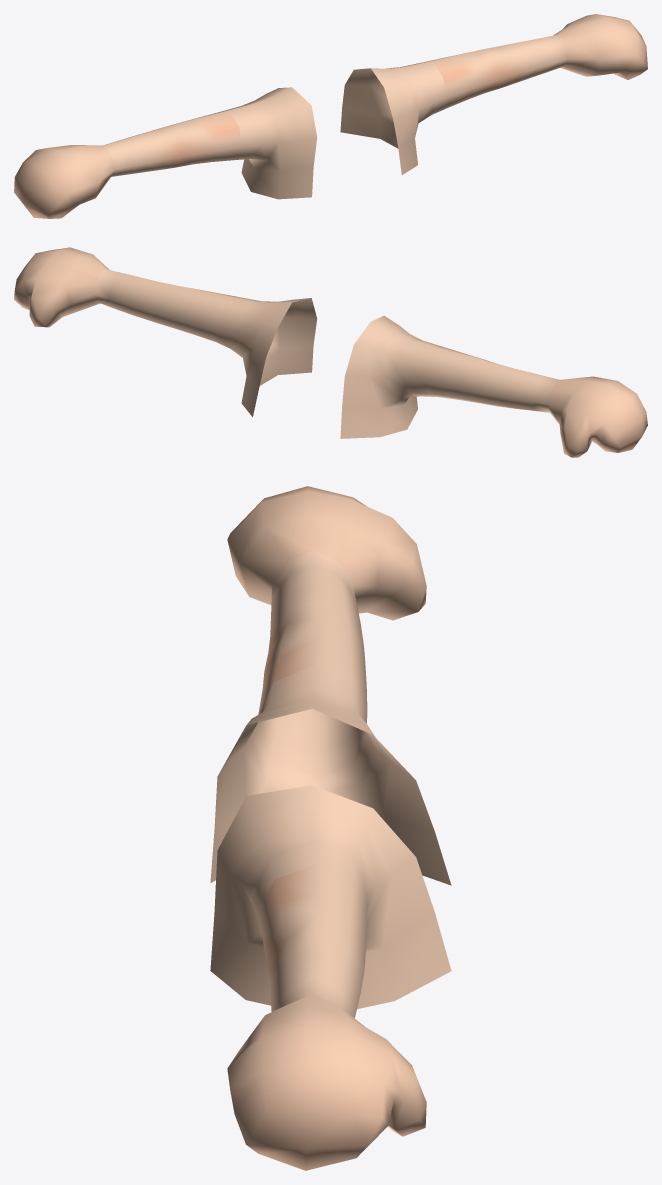
File: Body_ArmB_1.fbx
The picture shows the model from 3 angles, top to bottom: view 1: azimuth 30°, elevation 25°; view 2: azimuth 150°, elevation 25°; view 3: azimuth 270°, elevation 25°; orthographic projection. The views are drawn at different scales.
Parts seen in each view (by area): view 1: Body_ArmB_1; view 2: Body_ArmB_1; view 3: Body_ArmB_1.
Part boxes in pixels (bbox=[...]): Body_ArmB_1: bbox=[14, 14, 647, 218]; Body_ArmB_1: bbox=[14, 247, 647, 457]; Body_ArmB_1: bbox=[210, 486, 451, 1170].
Bounding box in the file's own units: 131 × 19.51 × 22.04.
